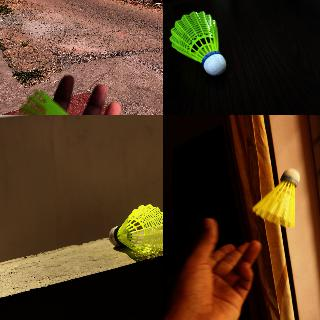shuttlecock: (170, 11, 227, 75), (0, 90, 121, 114), (252, 168, 300, 228), (108, 204, 162, 256)
